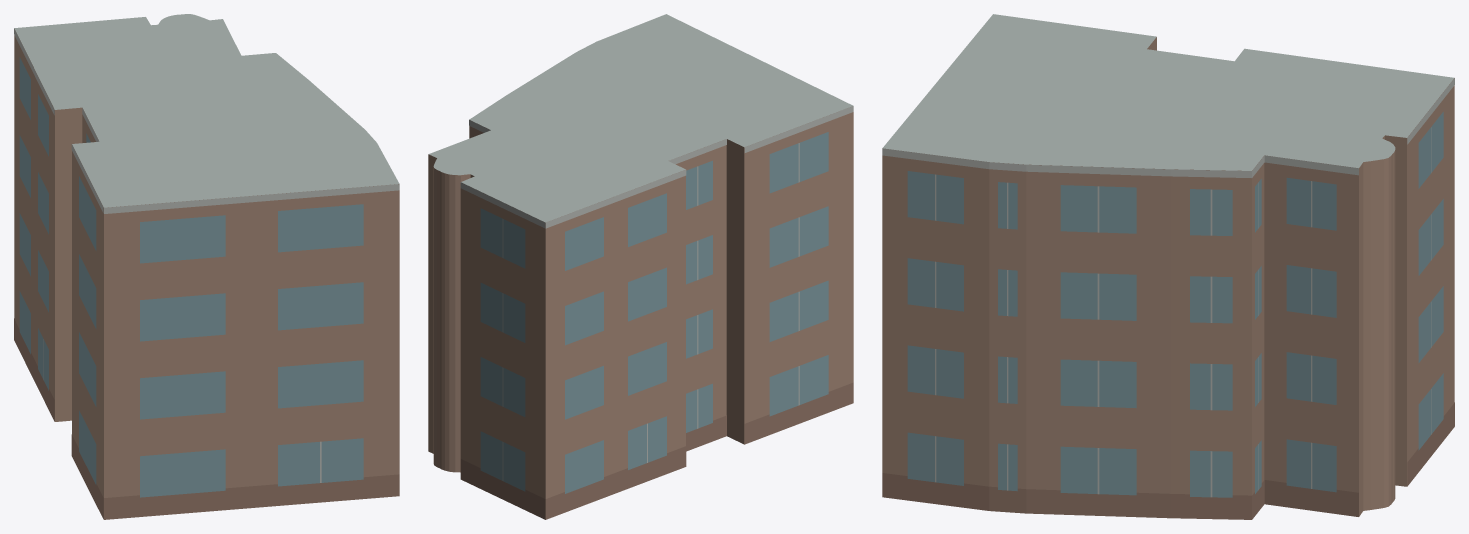
Rendered from survey-upis-32878880.glb.
The picture shows the model from 3 angles, left to right: view 1: azimuth 30°, elevation 25°; view 2: azimuth 150°, elevation 25°; view 3: azimuth 270°, elevation 25°; orthographic projection. The views are drawn at different scales.
Parts seen in each view (by area): view 1: survey-upis-32878880.tmp; view 2: survey-upis-32878880.tmp; view 3: survey-upis-32878880.tmp.
Part boxes in pixels (bbox=[...]): survey-upis-32878880.tmp: bbox=[14, 14, 399, 519]; survey-upis-32878880.tmp: bbox=[428, 14, 853, 519]; survey-upis-32878880.tmp: bbox=[882, 14, 1454, 519].
Bounding box in the file's own units: 11.49 × 11.9 × 17.71.
